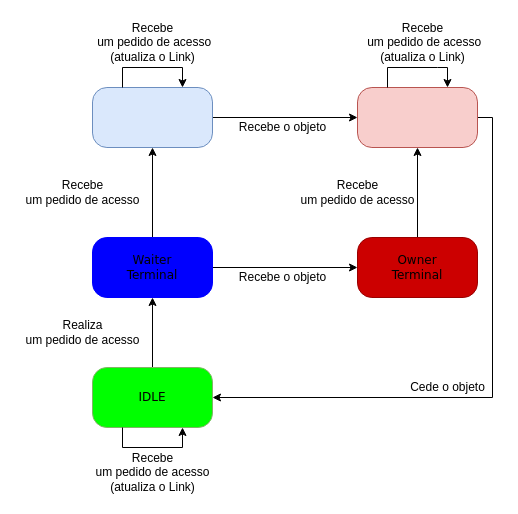
Some shapes in this 518 by 514 pixel diagram are drawn without their labels. Here are the shapes that lost their labels. From the top down, the centre of each, then its label:
(x=152, y=117): Waiter With Request
(x=417, y=117): Owner With Request
